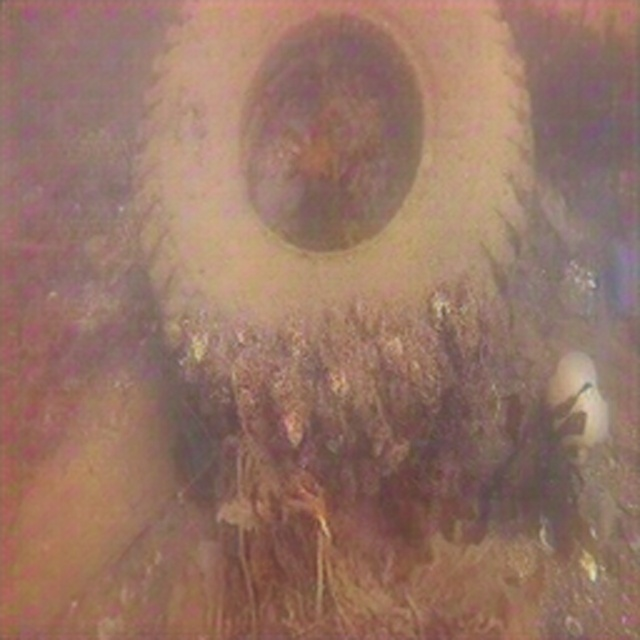mine: (129, 0, 533, 326)
